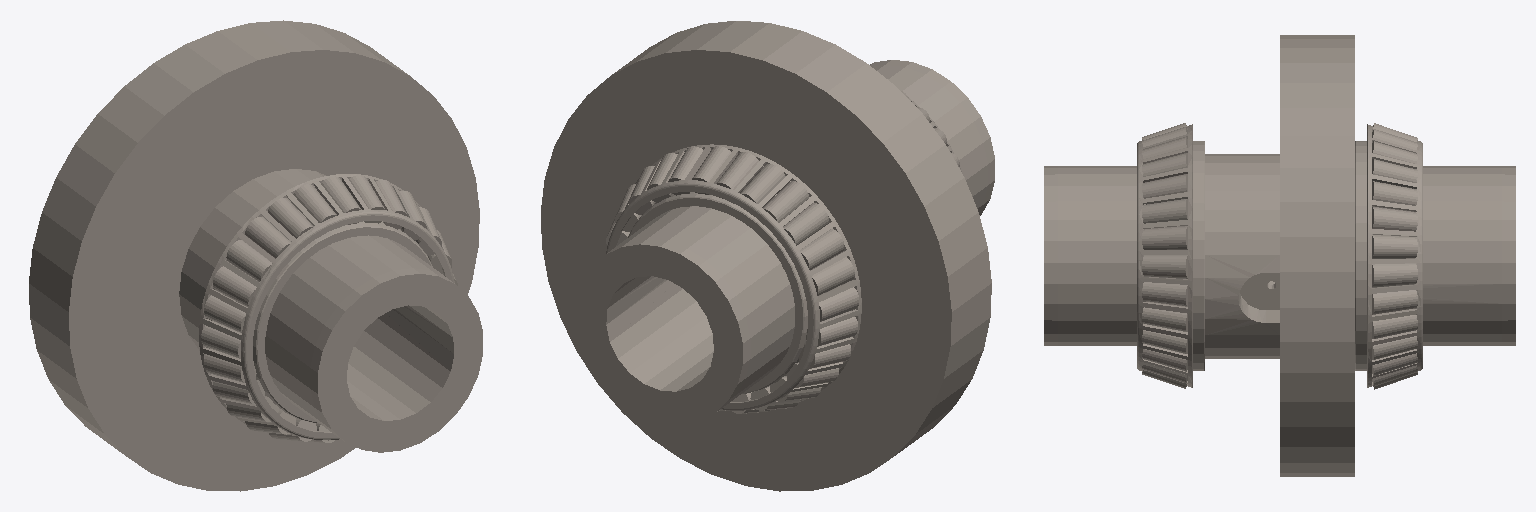
robot.urdf — big_shaft:
<?xml version="1.0" encoding="utf-8"?>
<!-- This URDF was automatically created by SolidWorks to URDF Exporter! Originally created by [author] ([email redacted]) 
     Commit Version: 1.6.0-1-g15f4949  Build Version: 1.6.7594.29634
     For more information, please see http://wiki.ros.org/sw_urdf_exporter -->
<robot
  name="big_shaft">
  <link
    name="base_link">
    <inertial>
      <origin
        xyz="-0.00021999 0.091253 0.0001453"
        rpy="0 0 0" />
      <mass
        value="7.1856" />
      <inertia
        ixx="0.014523"
        ixy="7.4385E-06"
        ixz="4.6715E-11"
        iyy="0.016031"
        iyz="-3.6354E-11"
        izz="0.014513" />
    </inertial>
    <visual>
      <origin
        xyz="0 0 0"
        rpy="0 0 0" />
      <geometry>
        <mesh
          filename="package://big_shaft/meshes/base_link.STL" />
      </geometry>
      <material
        name="">
        <color
          rgba="0.65098 0.61961 0.58824 1" />
      </material>
    </visual>
    <collision>
      <origin
        xyz="0 0 0"
        rpy="0 0 0" />
      <geometry>
        <mesh
          filename="package://big_shaft/meshes/base_link.STL" />
      </geometry>
    </collision>
  </link>
</robot>

--- Render facts (derived) ---
The picture shows the robot from 3 angles, left to right: view 1: azimuth 30°, elevation 25°; view 2: azimuth 150°, elevation 25°; view 3: azimuth 270°, elevation 25°; orthographic projection.
Robot: big_shaft — 1 links, 0 joints (none); root link base_link; default pose: every joint at zero.
Links seen in each view (by area): view 1: base_link; view 2: base_link; view 3: base_link.
Boxes of the visible links, left/top/right/bottom form: base_link: left=29, top=20, right=482, bottom=491; base_link: left=541, top=21, right=994, bottom=491; base_link: left=1044, top=35, right=1515, bottom=476.
Bounding box of the posed robot: 0.1599 × 0.17 × 0.1597 m (x, y, z).
1 mesh visuals loaded from 1 distinct referenced files (1 binary STL).